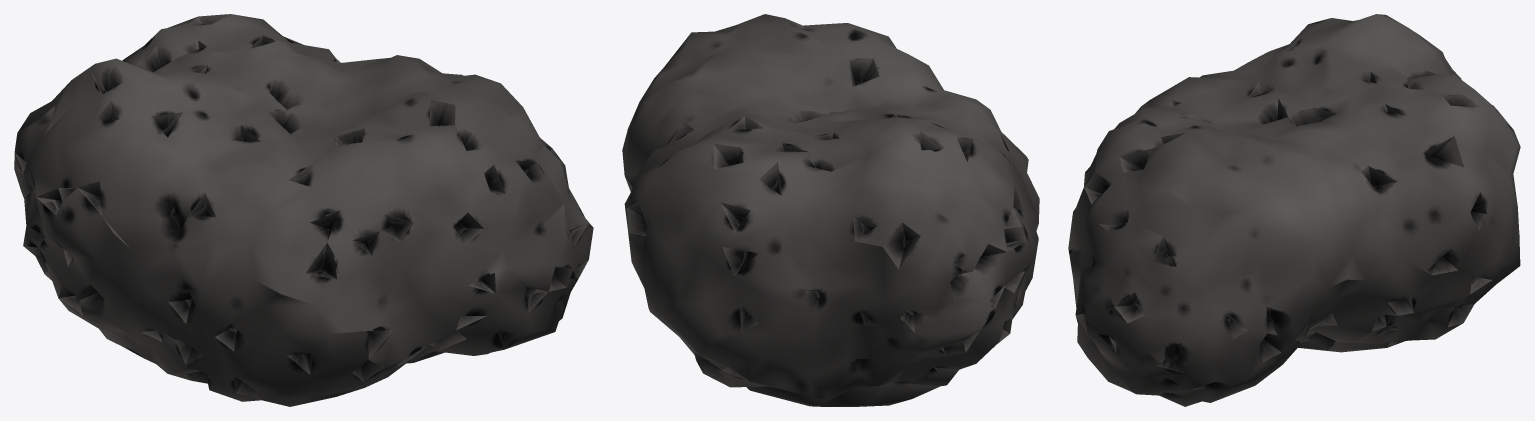
The model's file is escoria.fbx.
3 renders of one model, left to right at view 1: azimuth 30°, elevation 25°; view 2: azimuth 150°, elevation 25°; view 3: azimuth 270°, elevation 25°, orthographic. The views are drawn at different scales.
Parts seen in each view (by area): view 1: escoria; view 2: escoria; view 3: escoria.
Boxes of the visible parts, left/top/right/bottom form: escoria: left=14, top=14, right=593, bottom=406; escoria: left=622, top=14, right=1039, bottom=406; escoria: left=1068, top=14, right=1520, bottom=406.
Size of the model in its own units: 2.95 by 1.77 by 2.68.
1 material, 1 textured.
